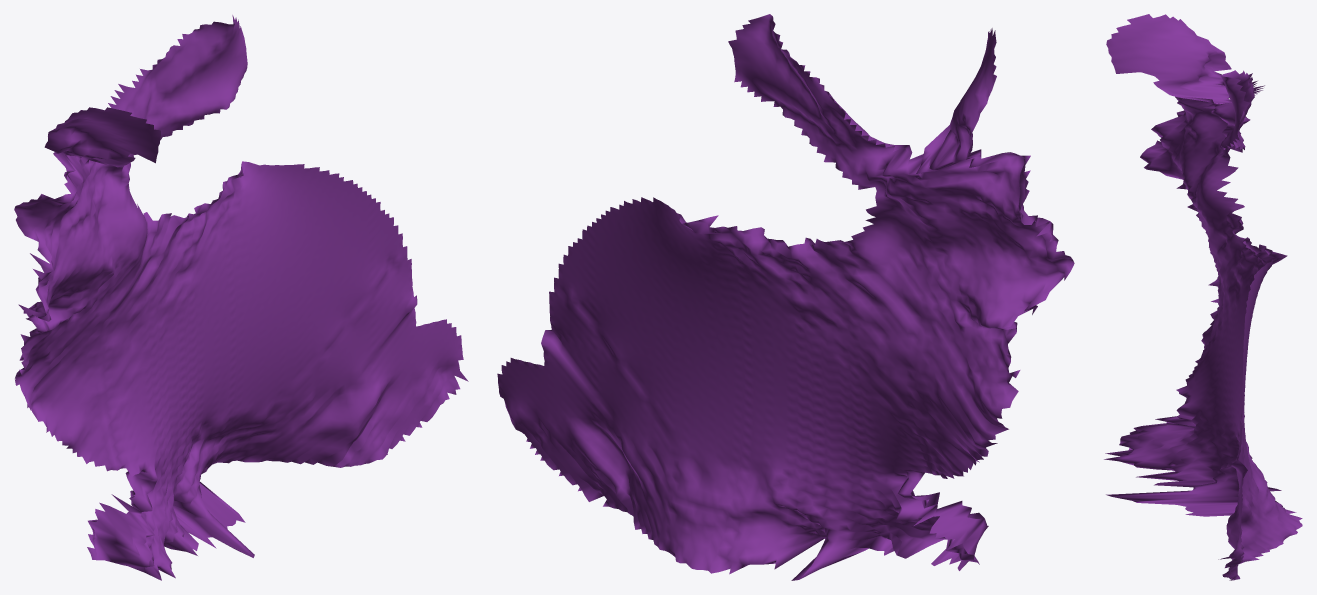
File: bunny_SFL.glb
The picture shows the model from 3 angles, left to right: view 1: azimuth 30°, elevation 25°; view 2: azimuth 150°, elevation 25°; view 3: azimuth 270°, elevation 25°; orthographic projection. The views are drawn at different scales.
Parts seen in each view (by area): view 1: main-sfl-bunny; view 2: main-sfl-bunny; view 3: main-sfl-bunny.
Part boxes in pixels (box(x1,y1,x2,y2)): main-sfl-bunny: box(14, 15, 468, 580); main-sfl-bunny: box(497, 14, 1074, 580); main-sfl-bunny: box(1104, 14, 1302, 580).
Size of the model in its own units: 1.07 by 1.05 by 0.4296.
